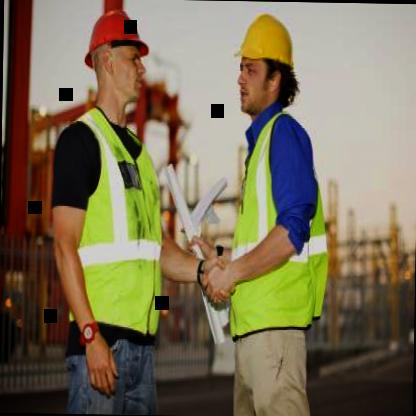helmet: (73, 0, 162, 120), (229, 5, 297, 117)
